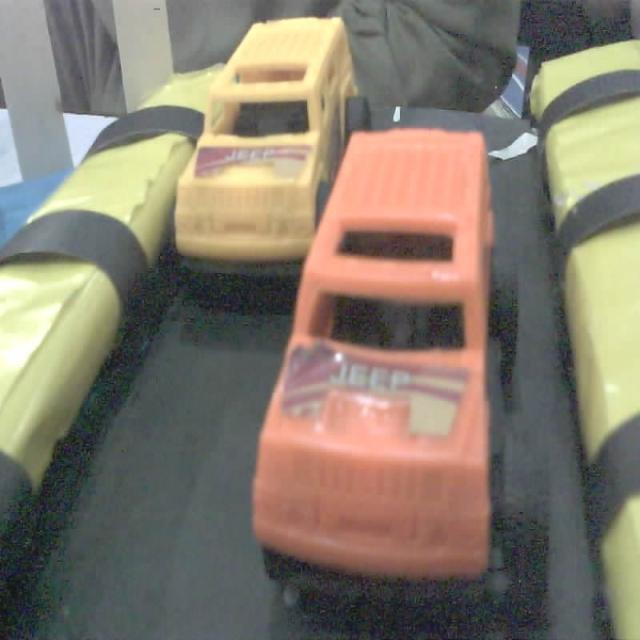TwoCar: (251, 145, 549, 624), (180, 5, 379, 308)
